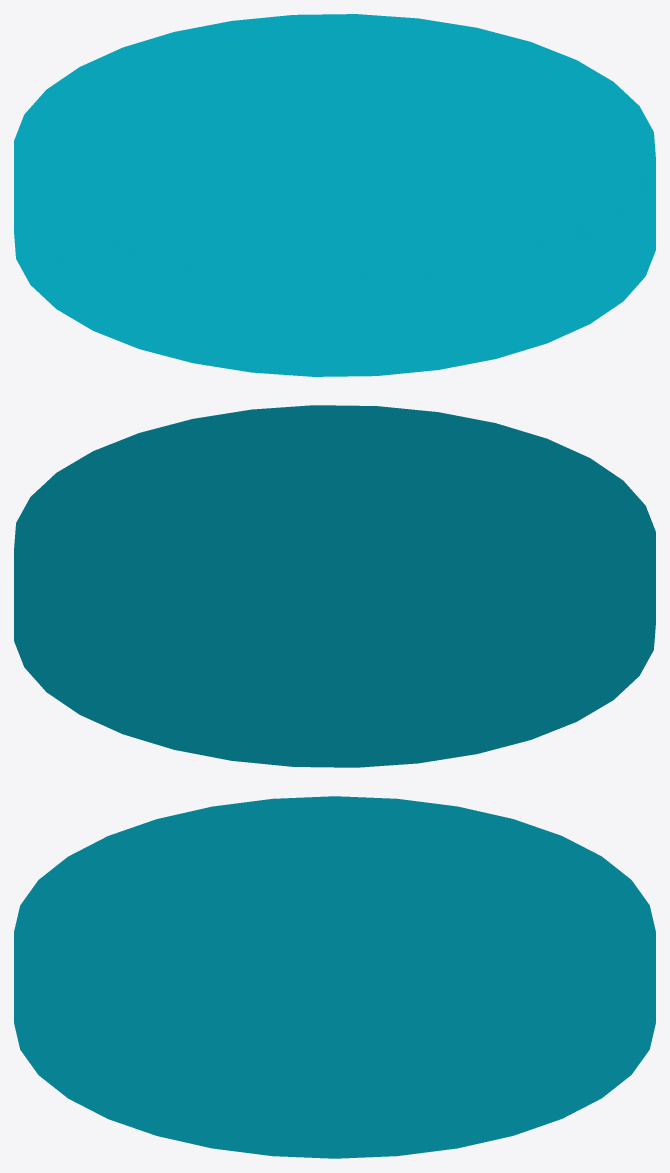
Rendered from lattice.glb.
The picture shows the model from 3 angles, top to bottom: view 1: azimuth 30°, elevation 25°; view 2: azimuth 150°, elevation 25°; view 3: azimuth 270°, elevation 25°; orthographic projection.
Parts seen in each view (by area): view 1: LatticeFogRing; view 2: LatticeFogRing; view 3: LatticeFogRing.
Boxes of the visible parts, x1,y1,x2,y2 form: LatticeFogRing: (14,14,655,376); LatticeFogRing: (14,405,655,767); LatticeFogRing: (14,796,655,1158).
Bounding box in the file's own units: 320 × 123 × 320.
Materials: 10 (7 with a texture image).
